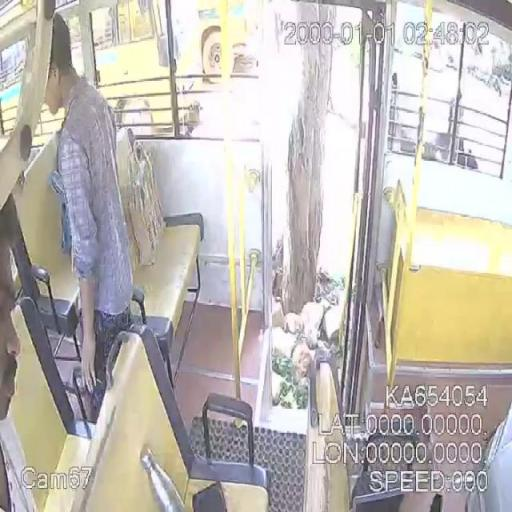persona: (42, 12, 136, 396)
